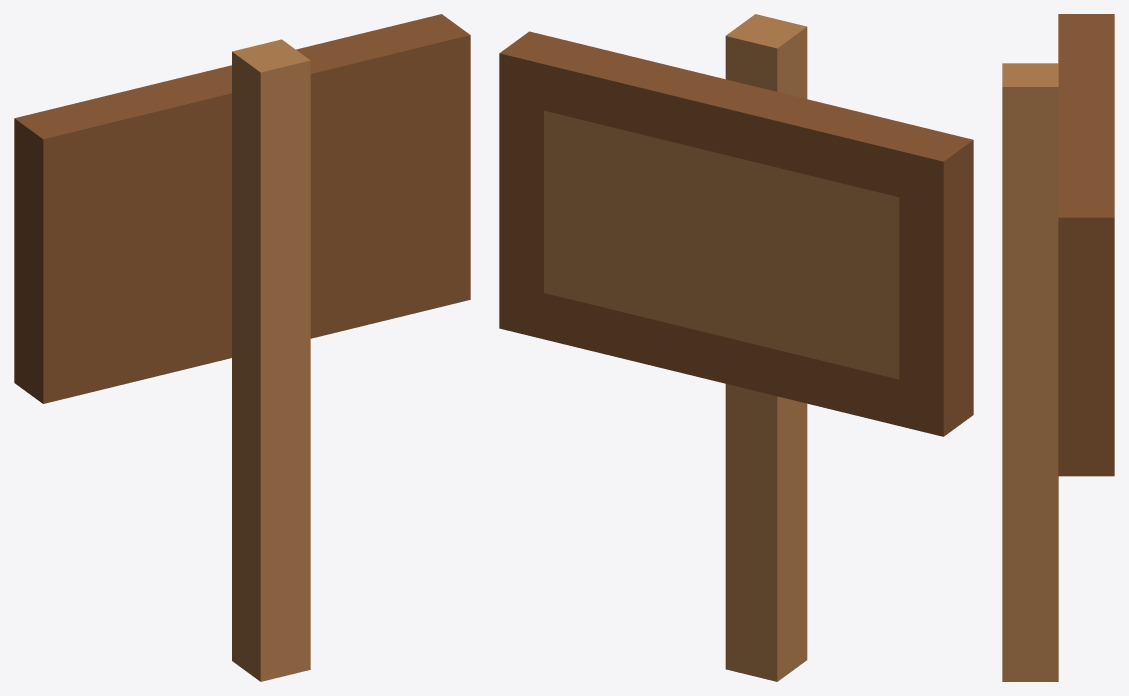
The model's file is signpost.glb.
The picture shows the model from 3 angles, left to right: view 1: azimuth 30°, elevation 25°; view 2: azimuth 150°, elevation 25°; view 3: azimuth 270°, elevation 25°; orthographic projection. The views are drawn at different scales.
Visible parts, largest first — view 1: sign; view 2: sign; view 3: sign.
Boxes of the visible parts, x1,y1,x2,y2 form: sign: [14, 14, 470, 681]; sign: [499, 14, 973, 681]; sign: [1002, 14, 1114, 681].
Size of the model in its own units: 0.6 by 0.8175 by 0.14.
